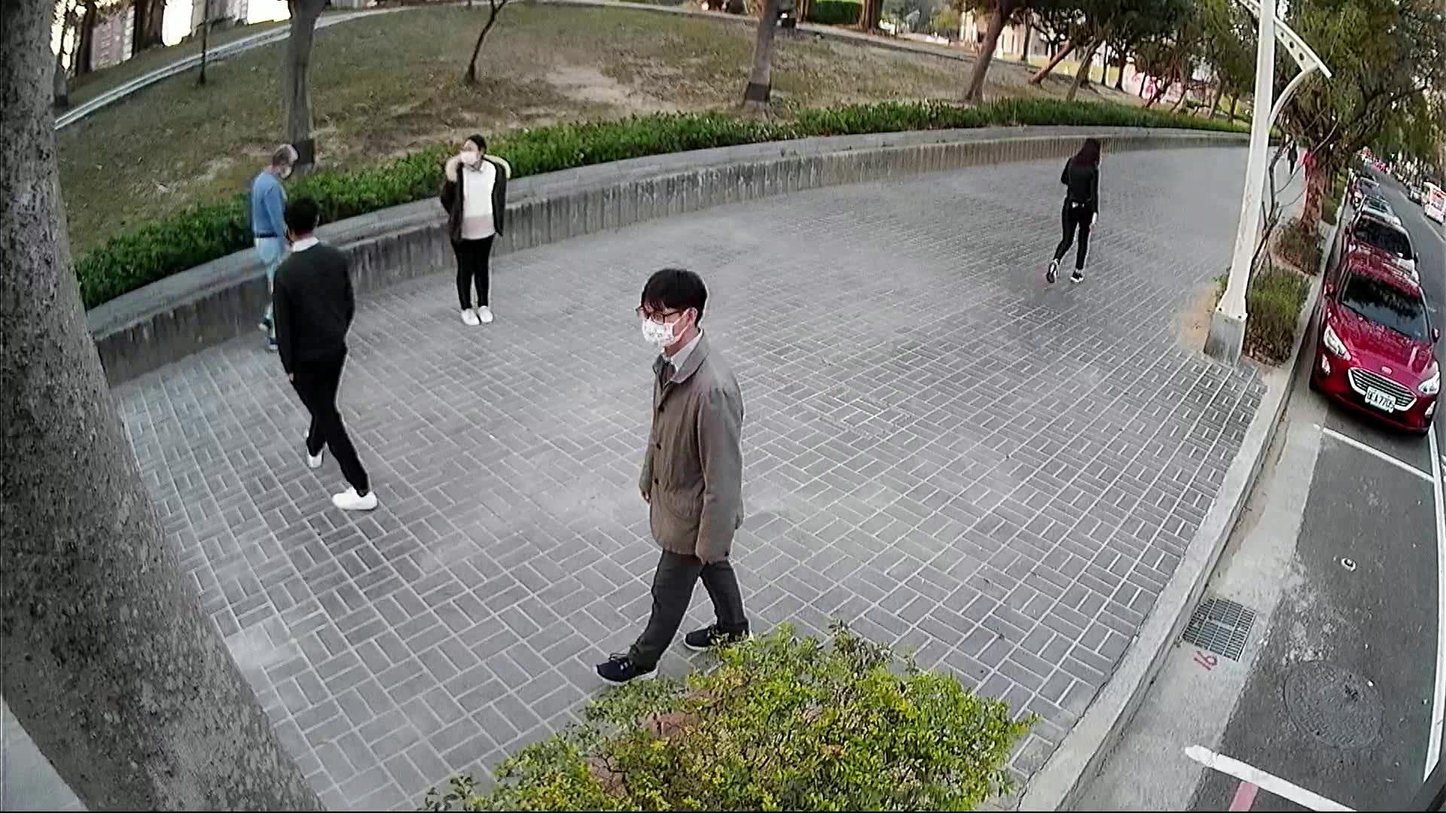person: (587, 256, 752, 695), (264, 187, 380, 513), (432, 129, 512, 328), (1035, 126, 1106, 291), (247, 138, 299, 354)
